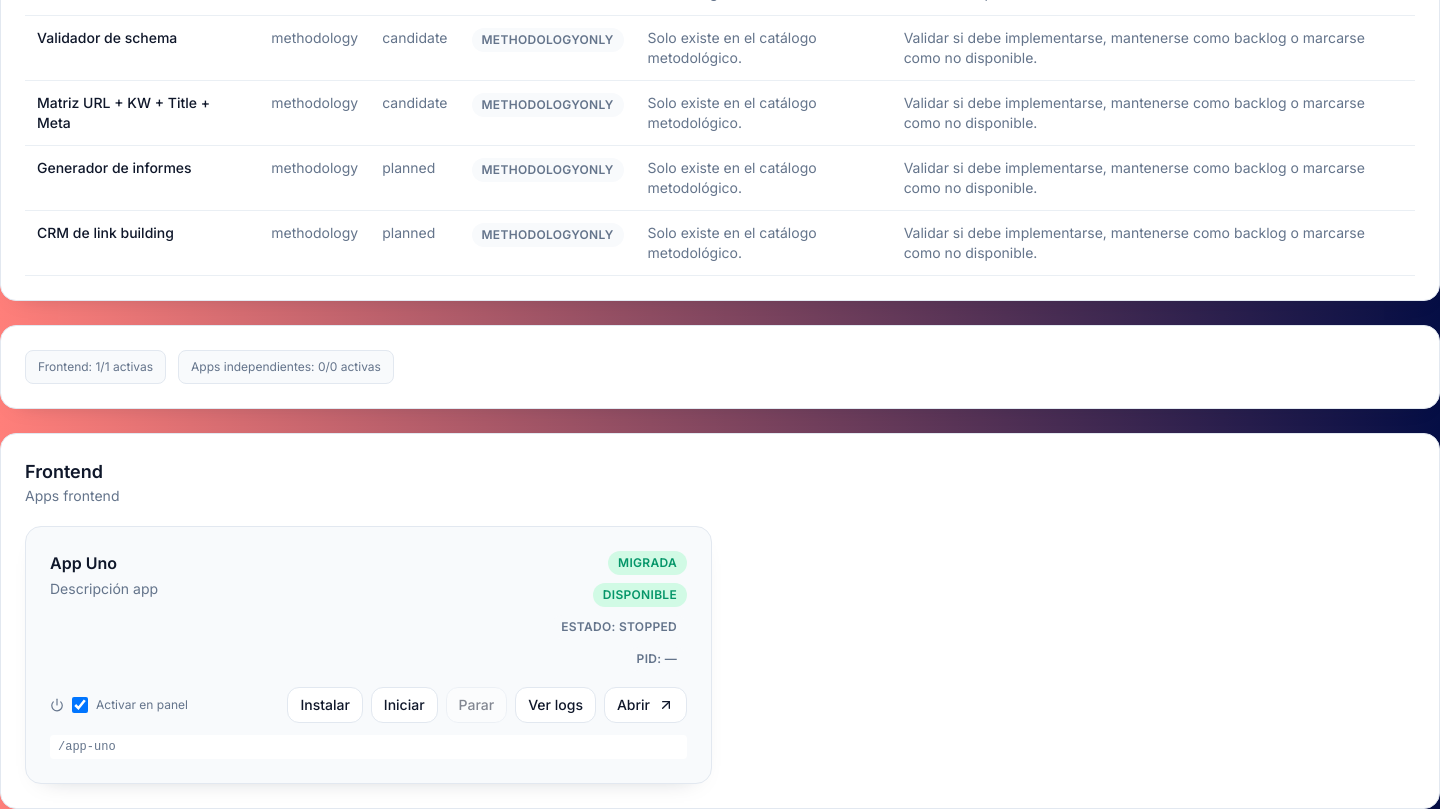
Test: ToolsHub launcher panel › shows per-app error messages when start/stop actions fail
This screenshot has width=1440, height=809.
(page scrolled)
Click the button "Iniciar" at (404,705), box left=371, top=687, right=438, bottom=723
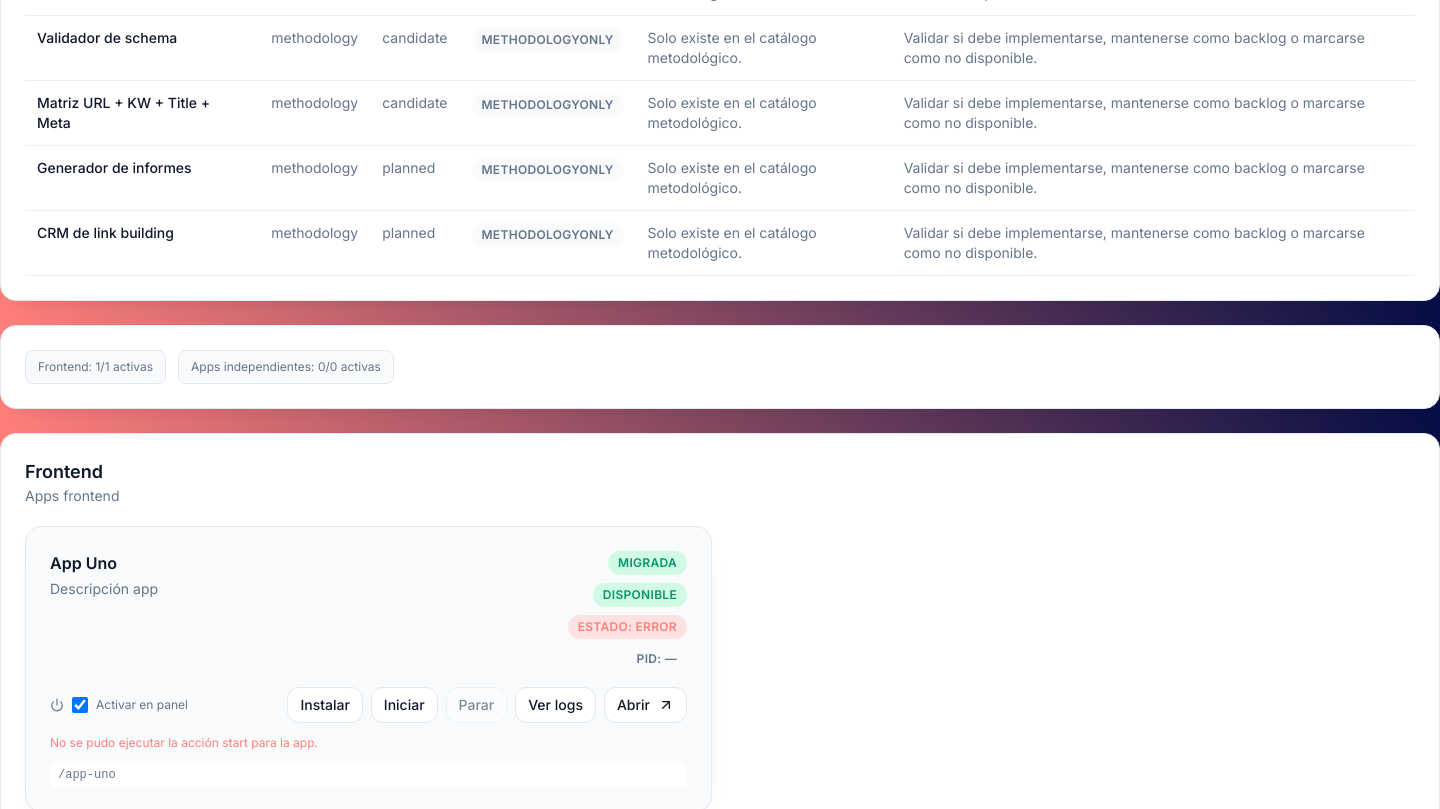
Result: the text "No se pudo ejecutar la acción start para la app." is shown at left=50, top=735, right=318, bottom=750
Click the button "Iniciar" at (404,705), box left=371, top=687, right=438, bottom=723
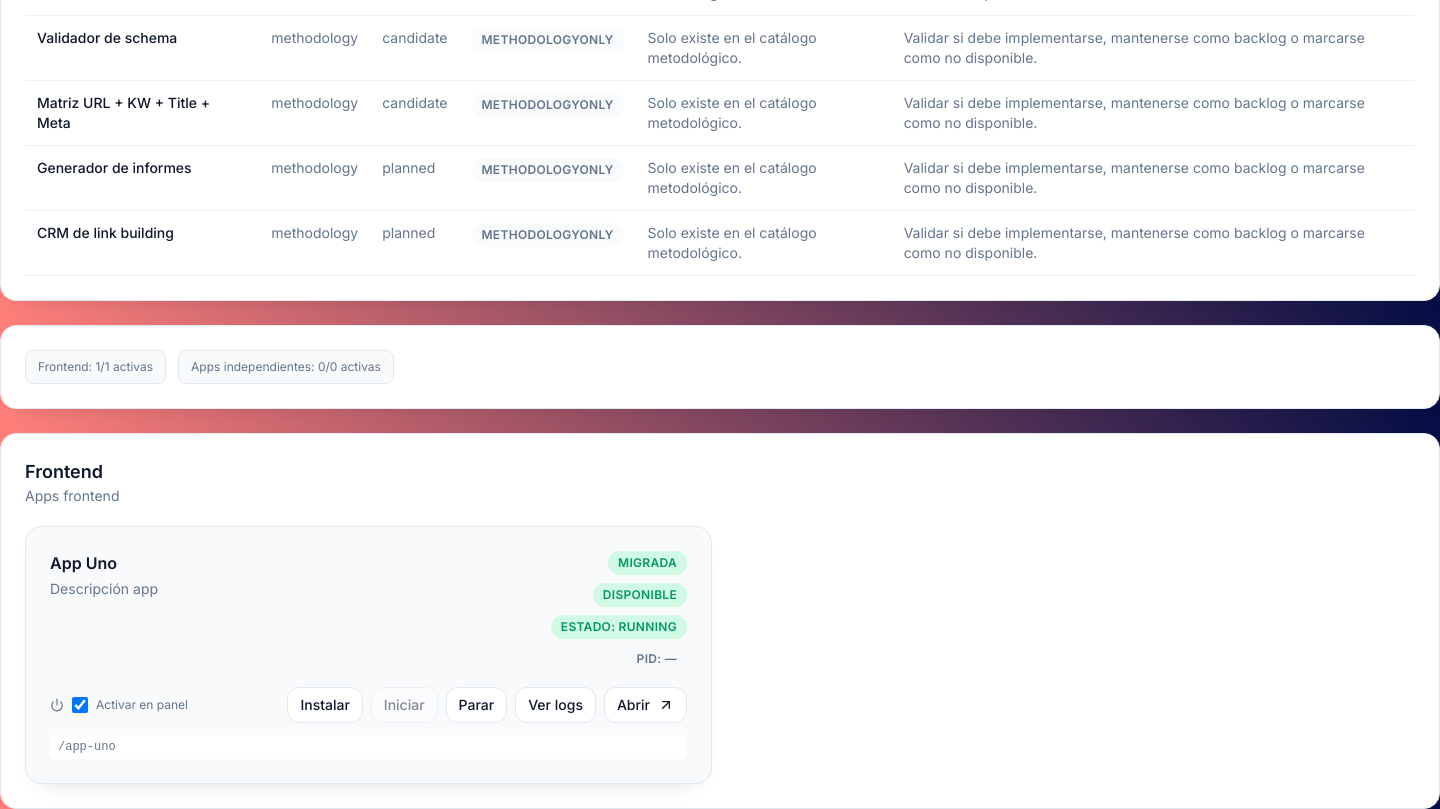
Result: the text "estado: running" is shown at left=551, top=615, right=687, bottom=639
Click the button "Parar" at (476,705), box left=446, top=687, right=507, bottom=723
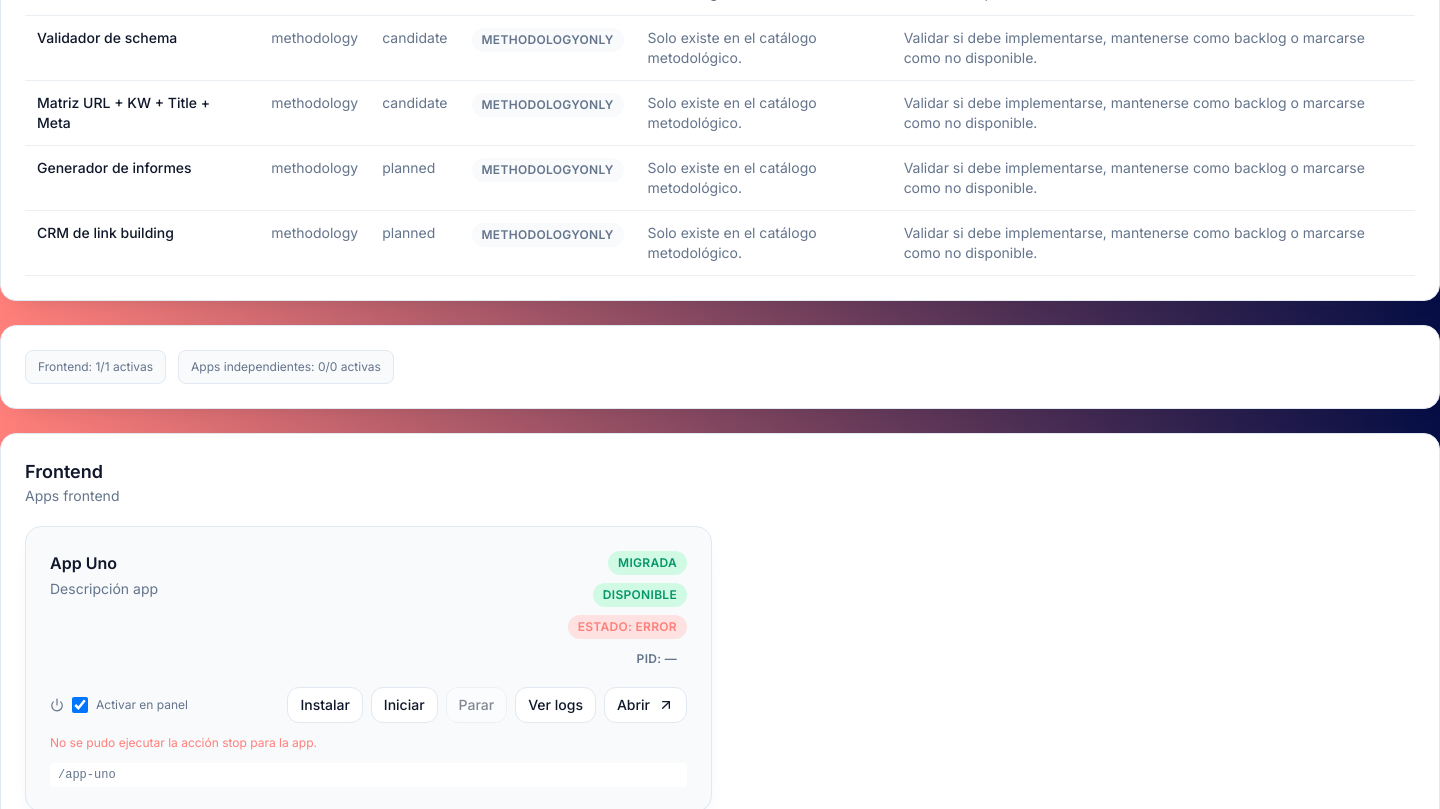
Result: the text "No se pudo ejecutar la acción stop para la app." is shown at left=50, top=735, right=317, bottom=750
